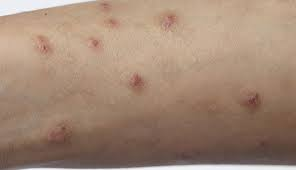herpes: (28, 22, 236, 95)
